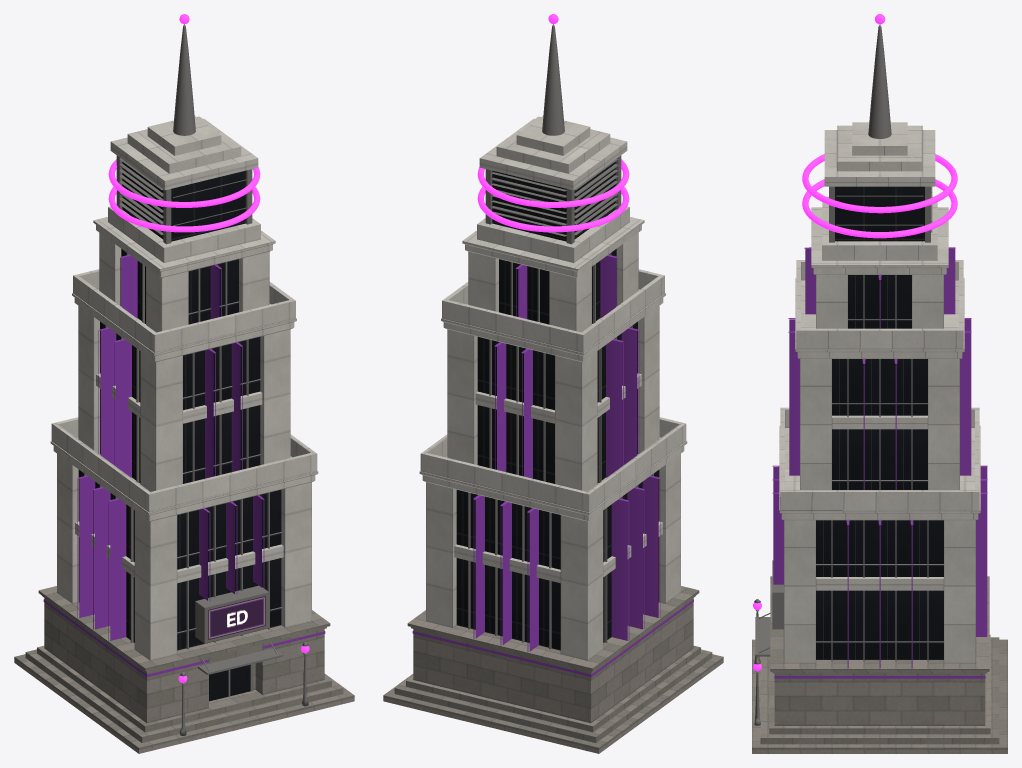
The model's file is s16-echodawn-dao.glb.
The picture shows the model from 3 angles, left to right: view 1: azimuth 30°, elevation 25°; view 2: azimuth 150°, elevation 25°; view 3: azimuth 270°, elevation 25°; orthographic projection. The views are drawn at different scales.
Parts seen in each view (by area): view 1: Landmark · EchoDawn DAO (Series 16); view 2: Landmark · EchoDawn DAO (Series 16); view 3: Landmark · EchoDawn DAO (Series 16).
Part boxes in pixels (left/top/right/bottom): Landmark · EchoDawn DAO (Series 16): left=14, top=14, right=354, bottom=753; Landmark · EchoDawn DAO (Series 16): left=383, top=14, right=723, bottom=753; Landmark · EchoDawn DAO (Series 16): left=752, top=14, right=1007, bottom=753.
Bounding box in the file's own units: 12 × 35.5 × 12.
Materials: 7 (4 with a texture image).
